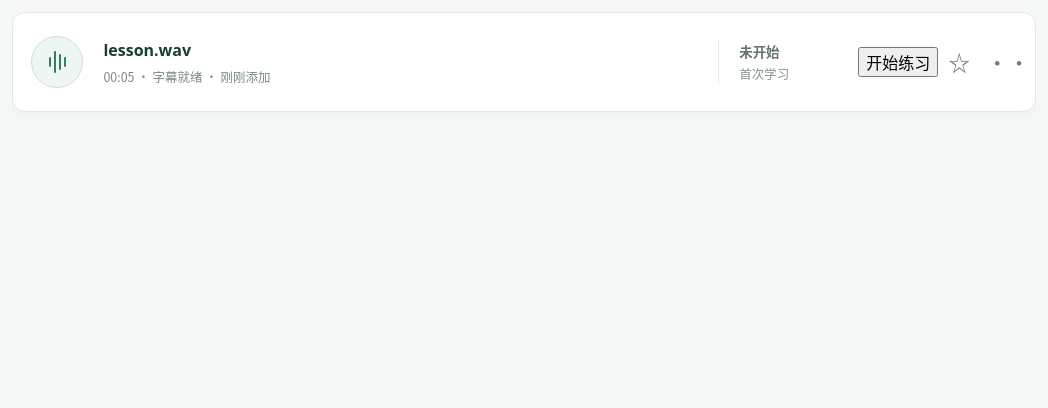
MaterialRow › closes the more menu when focus leaves the material card
Click the button named "更多操作 lesson.wav" at (999, 62), box [981,44,1017,80]
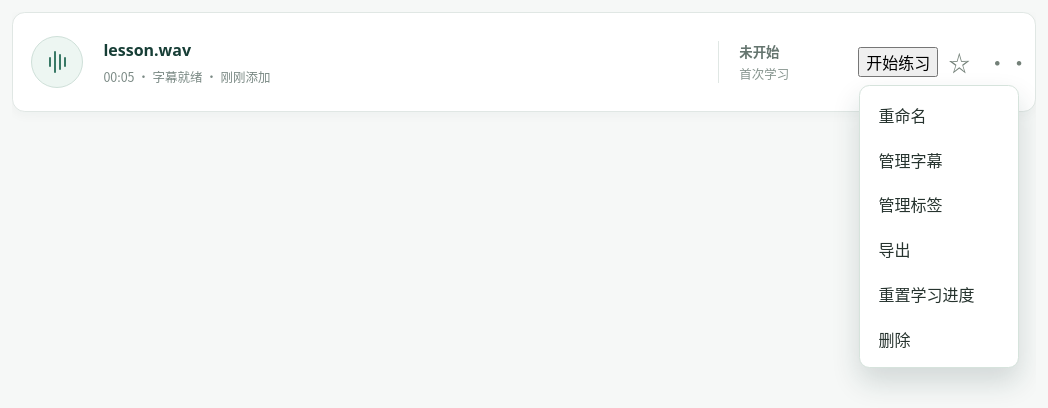
Leave the menu, box [859,85,1019,368]
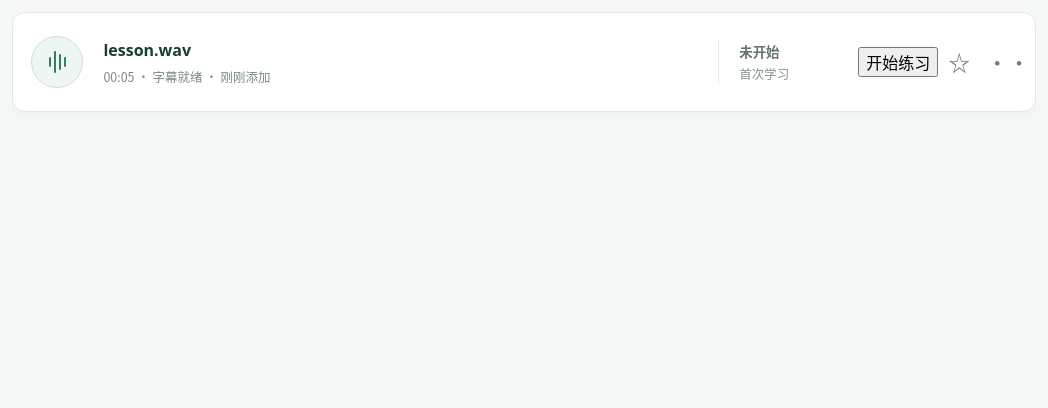
Result: the menu is gone
